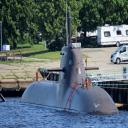submarine: (21, 10, 123, 115)
